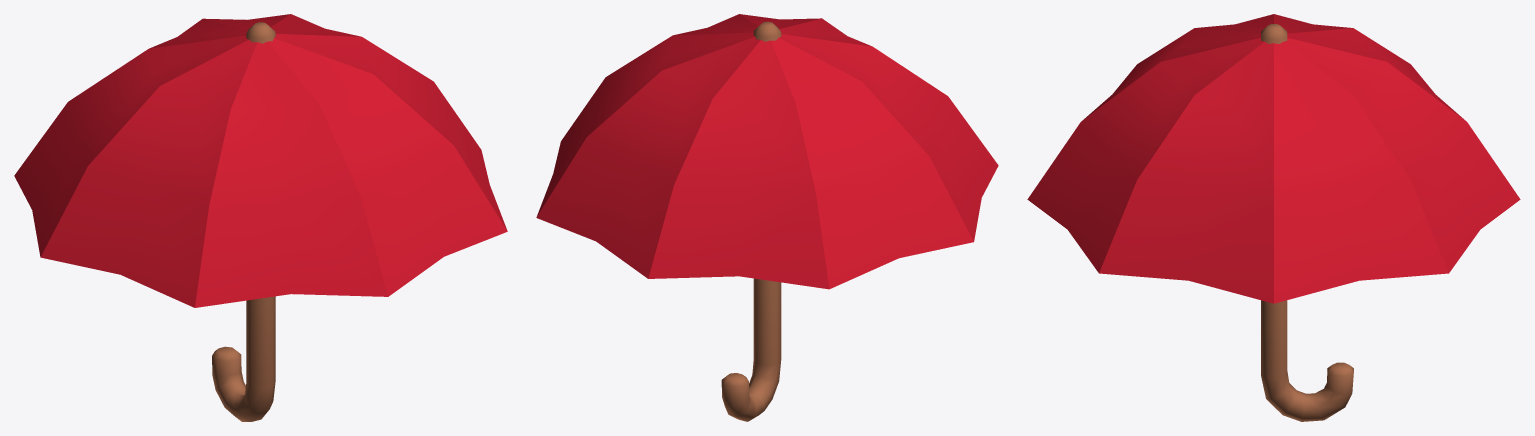
The model's file is Umbrella.fbx.
3 renders of one model, left to right at view 1: azimuth 30°, elevation 25°; view 2: azimuth 150°, elevation 25°; view 3: azimuth 270°, elevation 25°, orthographic. The views are drawn at different scales.
Visible parts, largest first — view 1: UmbraOpen, UmbraHandle; view 2: UmbraOpen, UmbraHandle; view 3: UmbraOpen, UmbraHandle.
Boxes of the visible parts, box(x1,y1,x2,y2) form: UmbraOpen: box(14, 14, 507, 307); UmbraHandle: box(212, 22, 275, 421); UmbraOpen: box(536, 14, 998, 289); UmbraHandle: box(721, 21, 781, 421); UmbraOpen: box(1027, 14, 1520, 303); UmbraHandle: box(1261, 24, 1353, 421).
Size of the model in its own units: 357 by 314 by 357.
